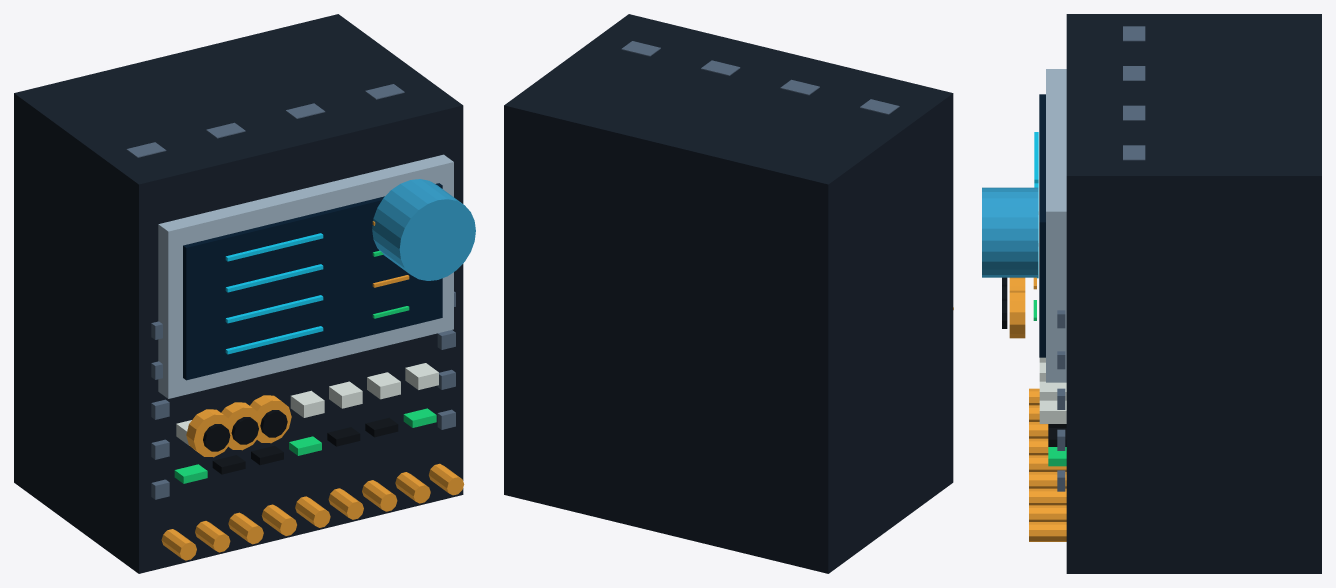
The model's file is 68_L88_DifferentialPressureMonitorArray.fbx.
The picture shows the model from 3 angles, left to right: view 1: azimuth 30°, elevation 25°; view 2: azimuth 150°, elevation 25°; view 3: azimuth 270°, elevation 25°; orthographic projection. The views are drawn at different scales.
Parts seen in each view (by area): view 1: L87_DifferentialPressureMonitorArray_Part_0000, L87_DifferentialPressureMonitorArray_Part_0002, L87_DifferentialPressureMonitorArray_Part_0001, L87_DifferentialPressureMonitorArray_Part_0009, L87_DifferentialPressureMonitorArray_Part_0004, L87_DifferentialPressureMonitorArray_Part_0008, L87_DifferentialPressureMonitorArray_Part_0006, L87_DifferentialPressureMonitorArray_Part_0003, L87_DifferentialPressureMonitorArray_Part_0007, L87_DifferentialPressureMonitorArray_Part_0005, L87_DifferentialPressureMonitorArray_Part_0010, L87_DifferentialPressureMonitorArray_Part_0014 (+4 smaller); view 2: L87_DifferentialPressureMonitorArray_Part_0000, L87_DifferentialPressureMonitorArray_Part_0008; view 3: L87_DifferentialPressureMonitorArray_Part_0000, L87_DifferentialPressureMonitorArray_Part_0001, L87_DifferentialPressureMonitorArray_Part_0009, L87_DifferentialPressureMonitorArray_Part_0004, L87_DifferentialPressureMonitorArray_Part_0008, L87_DifferentialPressureMonitorArray_Part_0002, L87_DifferentialPressureMonitorArray_Part_0006, L87_DifferentialPressureMonitorArray_Part_0014, L87_DifferentialPressureMonitorArray_Part_0005.
Part boxes in pixels (x1,y1,x2,y2): L87_DifferentialPressureMonitorArray_Part_0000: [14, 14, 463, 573]; L87_DifferentialPressureMonitorArray_Part_0002: [183, 183, 442, 380]; L87_DifferentialPressureMonitorArray_Part_0001: [158, 154, 453, 398]; L87_DifferentialPressureMonitorArray_Part_0009: [372, 179, 475, 280]; L87_DifferentialPressureMonitorArray_Part_0004: [161, 221, 464, 560]; L87_DifferentialPressureMonitorArray_Part_0008: [126, 84, 455, 499]; L87_DifferentialPressureMonitorArray_Part_0006: [176, 363, 438, 445]; L87_DifferentialPressureMonitorArray_Part_0003: [225, 233, 323, 354]; L87_DifferentialPressureMonitorArray_Part_0007: [212, 417, 398, 474]; L87_DifferentialPressureMonitorArray_Part_0005: [174, 250, 436, 483]; L87_DifferentialPressureMonitorArray_Part_0010: [186, 409, 232, 457]; L87_DifferentialPressureMonitorArray_Part_0014: [250, 395, 291, 443]; L87_DifferentialPressureMonitorArray_Part_0000: [504, 14, 953, 573]; L87_DifferentialPressureMonitorArray_Part_0008: [621, 41, 899, 114]; L87_DifferentialPressureMonitorArray_Part_0000: [1066, 14, 1321, 573]; L87_DifferentialPressureMonitorArray_Part_0001: [1046, 69, 1066, 382]; L87_DifferentialPressureMonitorArray_Part_0009: [982, 187, 1038, 277]; L87_DifferentialPressureMonitorArray_Part_0004: [1029, 277, 1066, 541]; L87_DifferentialPressureMonitorArray_Part_0008: [1057, 26, 1145, 491]; L87_DifferentialPressureMonitorArray_Part_0002: [1039, 94, 1045, 357]; L87_DifferentialPressureMonitorArray_Part_0006: [1039, 357, 1066, 423]; L87_DifferentialPressureMonitorArray_Part_0014: [1009, 290, 1025, 338]; L87_DifferentialPressureMonitorArray_Part_0005: [1033, 300, 1066, 466].
Bounding box in the file's own units: 104 × 120 × 92.31.
